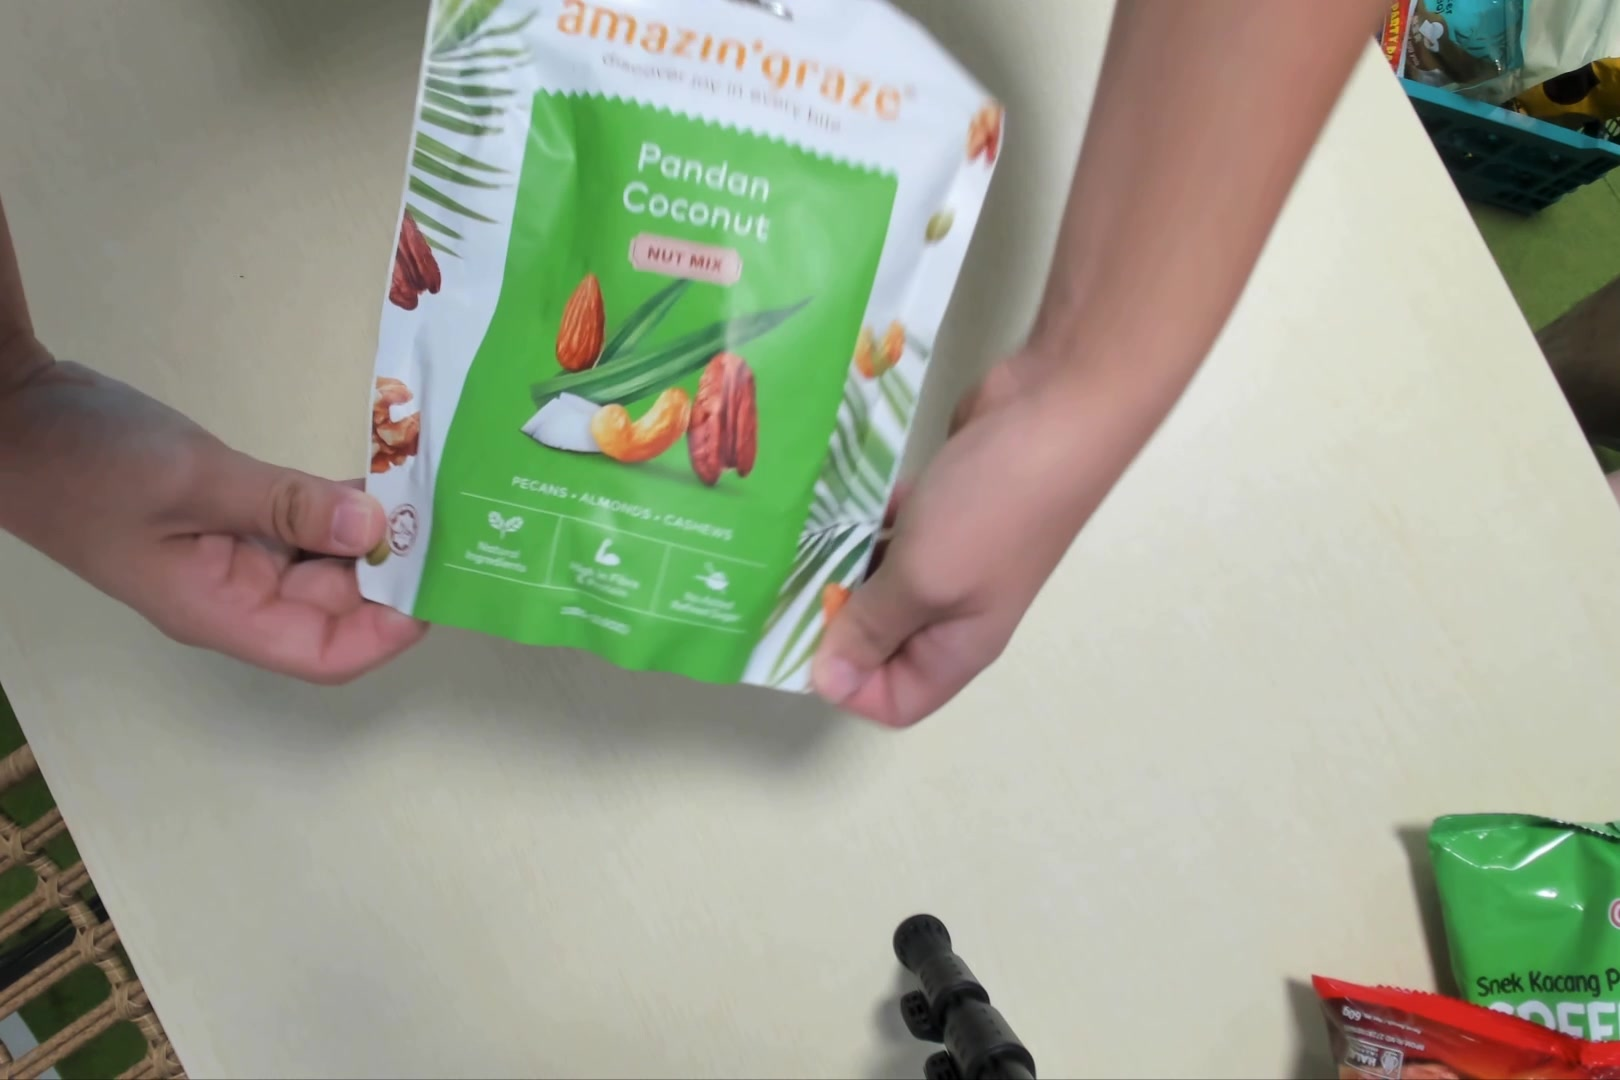Nuts_100-199g_Halal_NonHealthy: (345, 7, 1000, 708)
